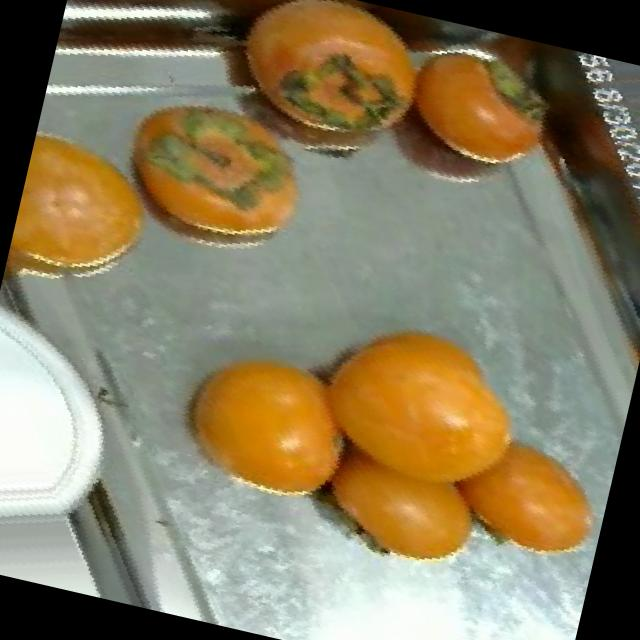Fruit: (0, 114, 187, 318), (434, 414, 619, 590)
